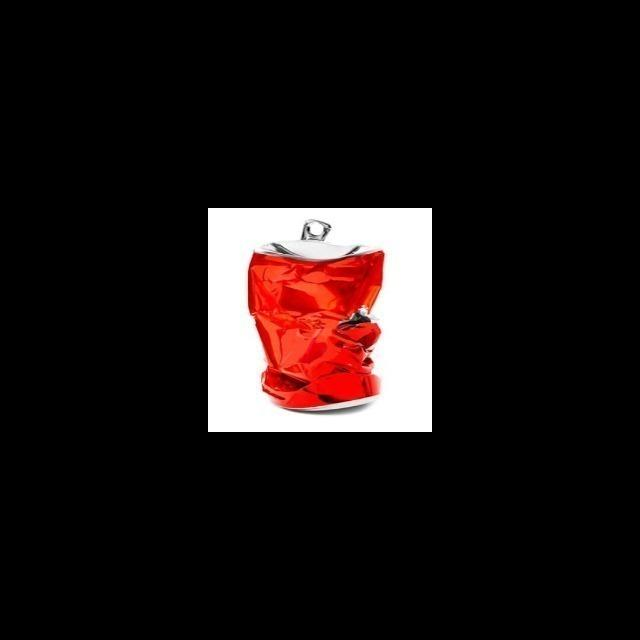metal: (234, 216, 397, 419)
